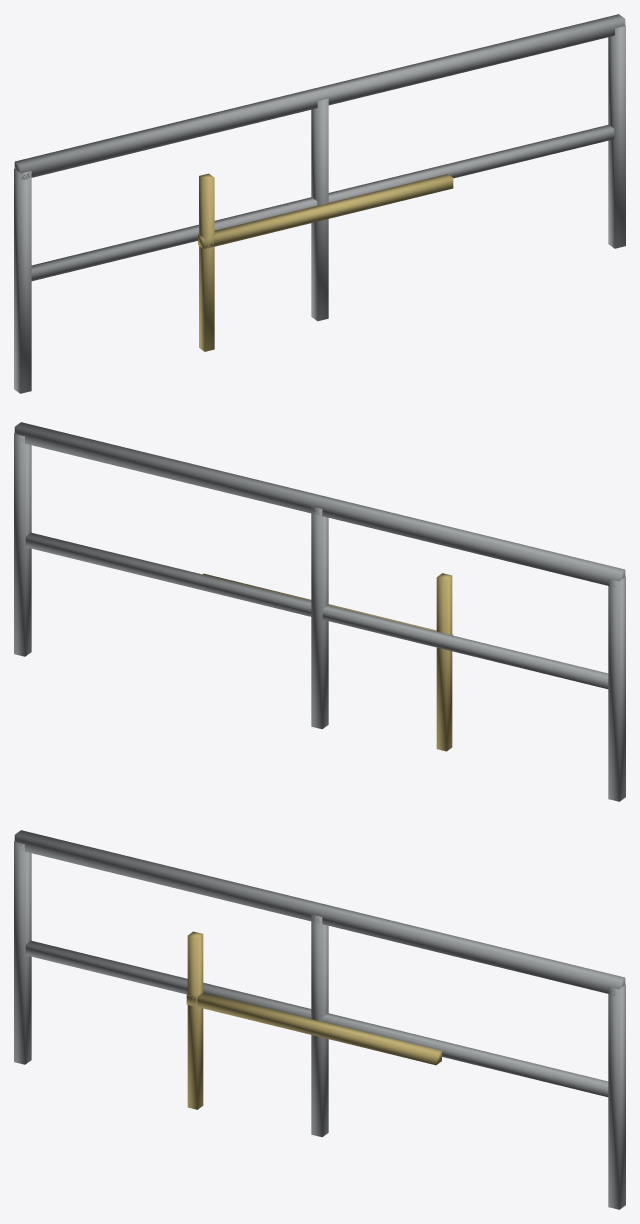
Rendered from residential_gate_l240_h85.glb.
3 views of the same model, one above another, from view 1: azimuth 30°, elevation 25°; view 2: azimuth 150°, elevation 25°; view 3: azimuth 330°, elevation 25° (orthographic).
Visible parts, largest first — view 1: world; view 2: world; view 3: world.
Part boxes in pixels (<box>): world: <box>14,14,625,393</box>; world: <box>14,422,625,801</box>; world: <box>14,830,625,1209</box>.
Size of the model in its own units: 2.44 by 0.8775 by 0.0825.
